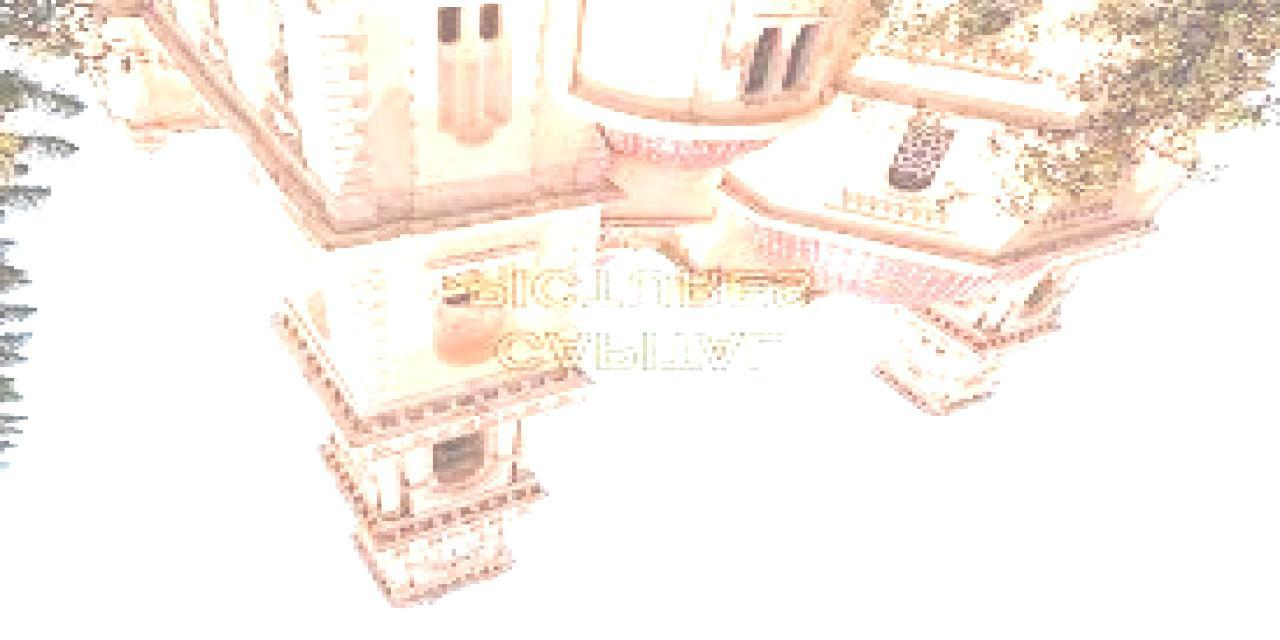Agios Minas: (95, 1, 1280, 602)
